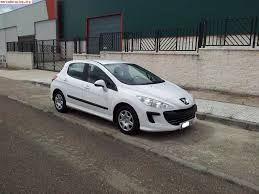car: (50, 60, 196, 133)
